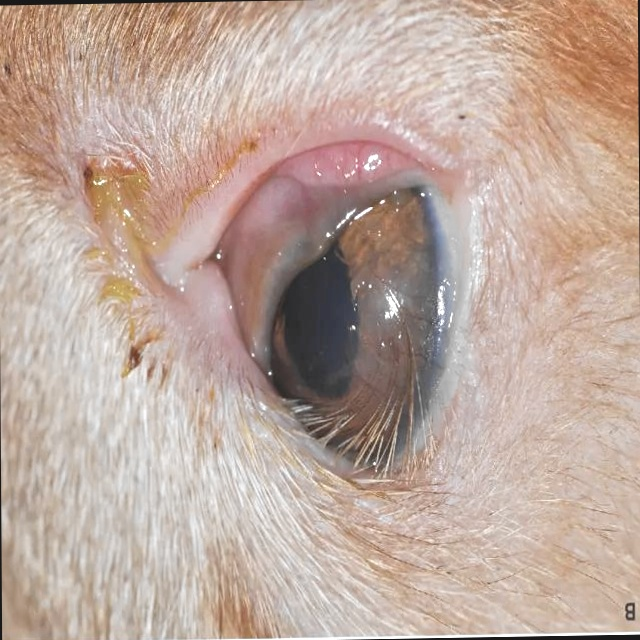eye_infection: (181, 110, 478, 495)
